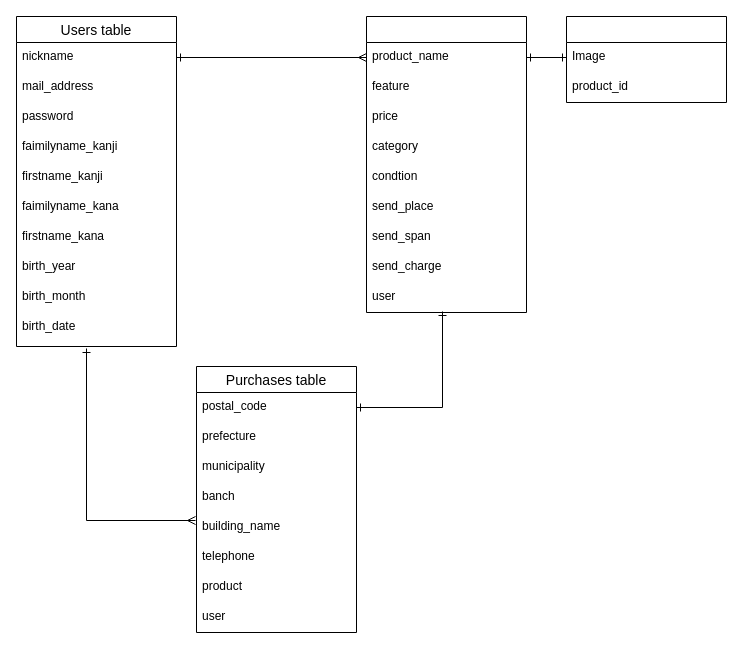
This 743x649 diagram has some shape labels left out. Each missing label, with the box of its shape:
Images table: (566, 16, 726, 102)
Products table: (366, 16, 526, 312)
